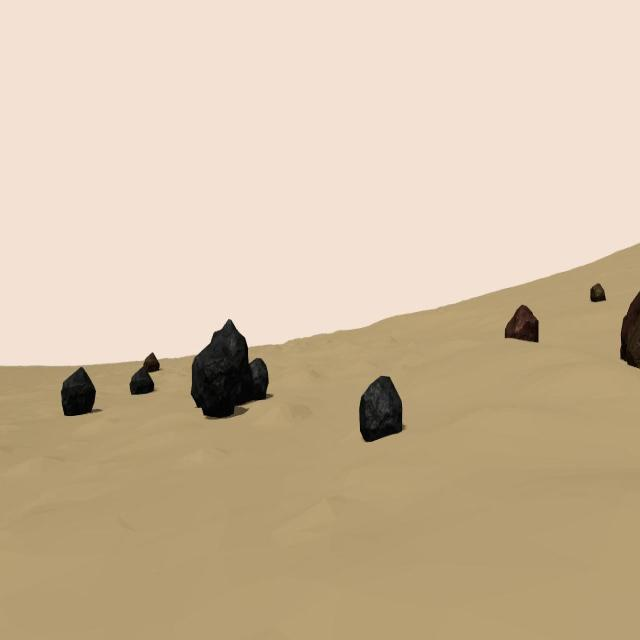rock: (210, 318, 248, 404), (201, 341, 240, 418), (360, 374, 402, 442), (191, 339, 217, 410), (61, 366, 96, 416), (620, 292, 640, 368), (506, 305, 539, 346), (245, 358, 269, 400), (129, 368, 154, 394), (143, 351, 160, 374), (590, 282, 606, 302)
